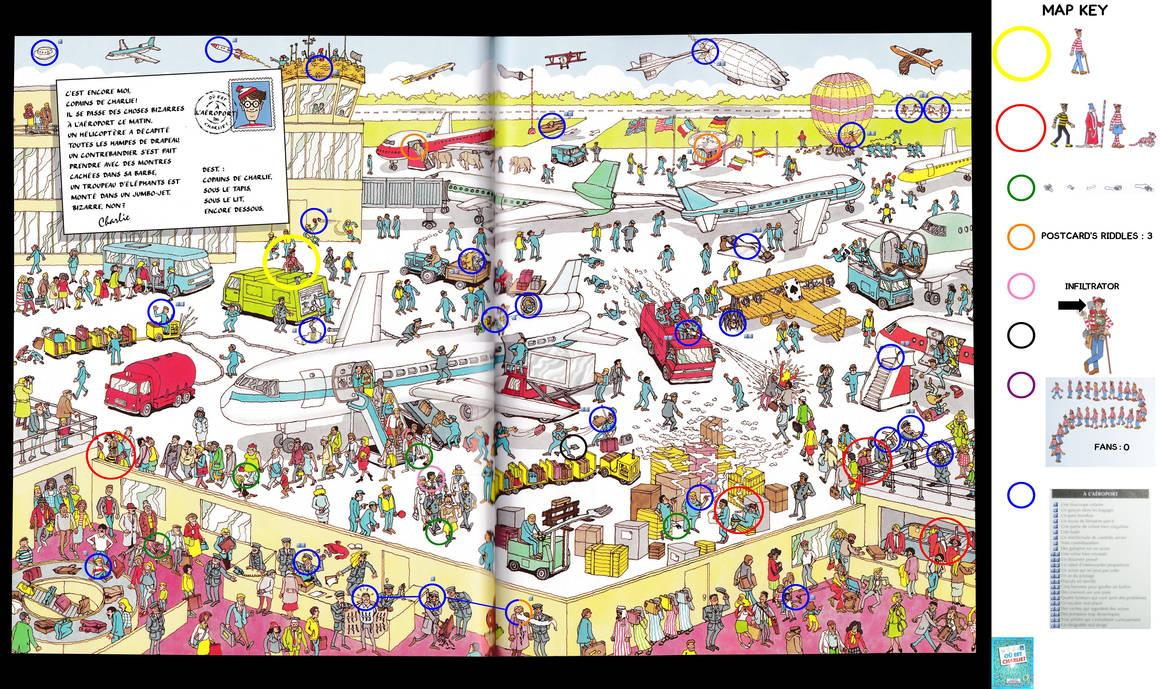waldo: (242, 90, 264, 116), (1073, 30, 1084, 67), (1113, 102, 1123, 137), (287, 250, 299, 271), (864, 447, 872, 463)
